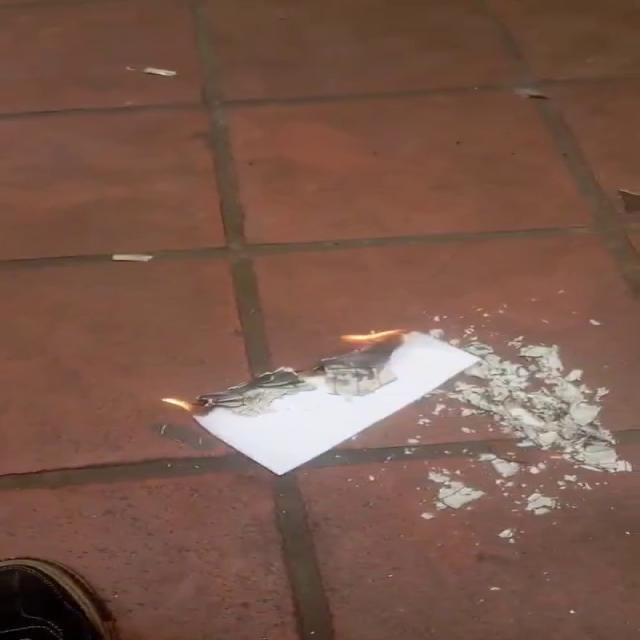Fire_Dangerous: (316, 329, 425, 356), (151, 396, 200, 424)
